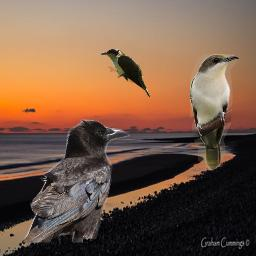Crow: (22, 119, 130, 243)
Cuckoo: (190, 54, 240, 171), (100, 49, 150, 98)
